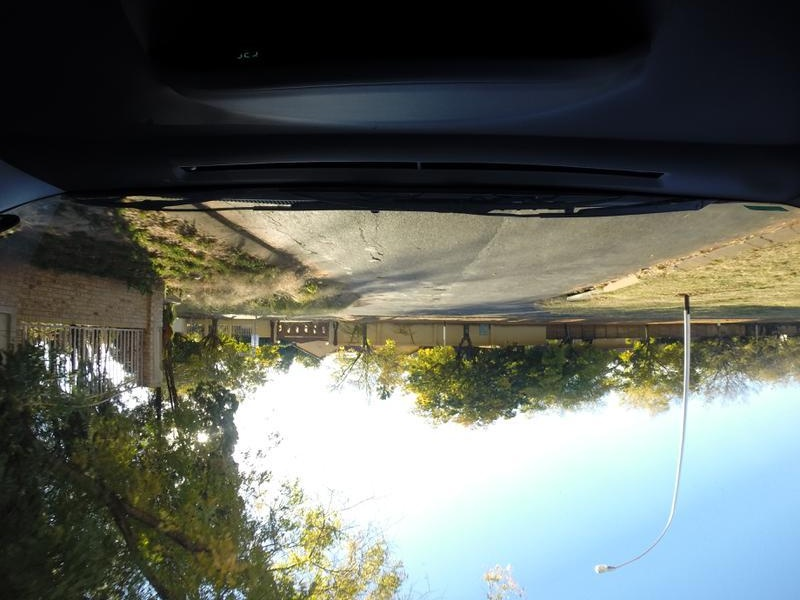pothole: (306, 248, 320, 256), (376, 276, 397, 281), (434, 286, 453, 291), (295, 237, 305, 244), (371, 256, 381, 261), (435, 295, 441, 303)
